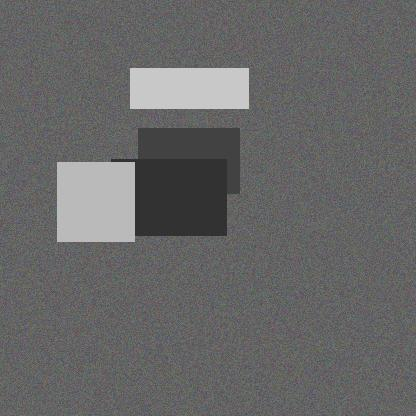empty: (99, 134, 155, 217)
occupied: (159, 140, 218, 220)
